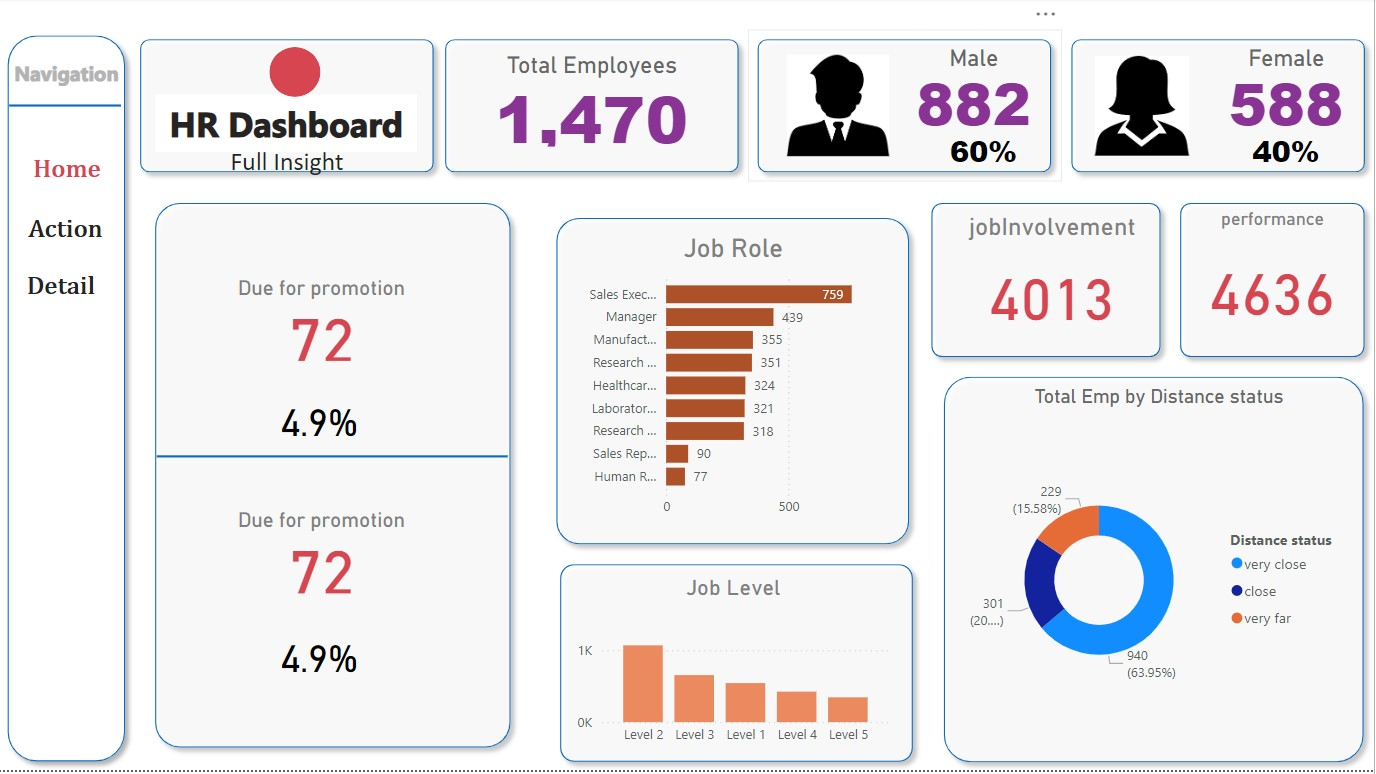

This screenshot's page, from the dashboard's own definition file:
{"tool":"powerbi","page":{"name":"Page 1","canvas":[1280,720],"ordinal":0},"visuals":[{"type":"shape","box":[0,26.9,127.2,693.3],"z":0},{"type":"shape","box":[123.5,30.6,291,141.8],"z":1000},{"type":"shape","box":[137,182.2,348.5,524.6],"z":2000},{"type":"shape","box":[509.9,196.9,346.1,321.6],"z":3000},{"type":"shape","box":[513.6,518.5,346.1,201.8],"z":4000},{"type":"shape","box":[859.7,182.2,231.1,161.4],"z":5000},{"type":"shape","box":[1090.8,182.2,189.5,161.4],"z":6000},{"type":"shape","box":[870.7,343.6,408.4,376.6],"z":7000},{"type":"shape","box":[407.2,30.6,291,141.8],"z":8000},{"type":"shape","box":[698.2,30.6,291,141.8],"z":9000},{"type":"shape","box":[989.3,30.6,291,141.8],"z":10000},{"type":"textbox","box":[159,132.1,218.9,40.4],"z":11000},{"type":"textbox","box":[146.7,90.5,243.3,53.8],"z":12000},{"type":"shape","box":[251.9,46.5,47.7,46.5],"z":13000},{"type":"card","title":"Total Employees","fields":{"Values":["New Measures.Total Emp"]},"box":[442.7,51.4,218.9,92.9],"z":14000},{"type":"card","title":"Male","fields":{"Values":["New Measures.Male"]},"box":[843.8,44,127.2,80.7],"z":15000},{"type":"card","title":"Male","fields":{"Values":["New Measures.% Male"]},"box":[871.9,124.7,89.3,39.1],"z":16000},{"type":"card","title":"Female","fields":{"Values":["New Measures.Female"]},"box":[1134.8,44,127.2,80.7],"z":17000},{"type":"card","title":"Male","fields":{"Values":["New Measures.% Female"]},"box":[1153.1,124.7,89.3,39.1],"z":18000},{"type":"image","box":[728.8,46.5,105.2,108.8],"z":19000},{"type":"image","box":[1007.6,50.1,112.5,102.7],"z":20000},{"type":"card","title":"due for promotion","fields":{"Values":["New Measures.% due for promotion"]},"box":[251.9,359.5,92.9,67.3],"z":21000},{"type":"card","title":"Due for promotion","fields":{"Values":["New Measures.Due for promotion"]},"box":[211.6,259.2,178.5,84.4],"z":22000},{"type":"card","title":"Due for promotion","fields":{"Values":["New Measures.Due for promotion"]},"box":[211.6,475.7,178.5,84.4],"z":23000},{"type":"card","title":"due for promotion","fields":{"Values":["New Measures.% due for promotion"]},"box":[251.9,579.6,92.9,67.3],"z":24000},{"type":"shape","box":[148,403.5,326.5,47.7],"z":25000},{"type":"clusteredBarChart","title":"Job Role","fields":{"Category":["HR Analytics Data.JobRole"],"Y":["Sum(HR Analytics Data.JobLevel)"]},"box":[533.2,220.1,300.8,272.7],"z":26000},{"type":"columnChart","title":"Job Level","fields":{"Category":["HR Analytics Data.Job Levels"],"Y":["Sum(HR Analytics Data.JobLevel)"]},"box":[533.2,536.8,300.8,167.5],"z":27000},{"type":"card","title":"jobInvolvement","fields":{"Values":["Sum(HR Analytics Data.JobInvolvement)"]},"box":[887.8,200.5,187.1,123.5],"z":28000},{"type":"card","title":"performance","fields":{"Values":["Sum(HR Analytics Data.PerformanceRating)"]},"box":[1110.3,196.9,150.4,127.2],"z":29000},{"type":"donutChart","fields":{"Category":["HR Analytics Data.Distance status"],"Y":["New Measures.Total Emp"]},"box":[897.6,360.7,364.4,343.6],"z":30000},{"type":"textbox","box":[0,53.8,127.2,44],"z":31000},{"type":"shape","box":[11,69.7,103.9,62.4],"z":32000},{"type":"textbox","box":[20.8,143.1,85.6,58.7],"z":33000},{"type":"textbox","box":[11,199.3,103.9,59.9],"z":34000},{"type":"textbox","box":[20.8,250.7,74.6,63.6],"z":35000}]}

Visuals, with their boxes in screenshot pixels (x1, y1, x2, y2), scaled from the page's 1280x720 canvas onto the 1376x774 screenshot:
shape: {"left": 0, "top": 29, "right": 137, "bottom": 773}
shape: {"left": 133, "top": 33, "right": 446, "bottom": 185}
shape: {"left": 147, "top": 196, "right": 522, "bottom": 760}
shape: {"left": 548, "top": 212, "right": 920, "bottom": 557}
shape: {"left": 552, "top": 557, "right": 924, "bottom": 773}
shape: {"left": 924, "top": 196, "right": 1173, "bottom": 369}
shape: {"left": 1173, "top": 196, "right": 1375, "bottom": 369}
shape: {"left": 936, "top": 369, "right": 1375, "bottom": 773}
shape: {"left": 438, "top": 33, "right": 751, "bottom": 185}
shape: {"left": 751, "top": 33, "right": 1063, "bottom": 185}
shape: {"left": 1063, "top": 33, "right": 1375, "bottom": 185}
textbox: {"left": 171, "top": 142, "right": 406, "bottom": 185}
textbox: {"left": 158, "top": 97, "right": 419, "bottom": 155}
shape: {"left": 271, "top": 50, "right": 322, "bottom": 100}
"Total Employees" card: {"left": 476, "top": 55, "right": 711, "bottom": 155}
"Male" card: {"left": 907, "top": 47, "right": 1044, "bottom": 134}
"Male" card: {"left": 937, "top": 134, "right": 1033, "bottom": 176}
"Female" card: {"left": 1220, "top": 47, "right": 1357, "bottom": 134}
"Male" card: {"left": 1240, "top": 134, "right": 1336, "bottom": 176}
image: {"left": 783, "top": 50, "right": 897, "bottom": 167}
image: {"left": 1083, "top": 54, "right": 1204, "bottom": 164}
"due for promotion" card: {"left": 271, "top": 386, "right": 371, "bottom": 459}
"Due for promotion" card: {"left": 227, "top": 279, "right": 419, "bottom": 369}
"Due for promotion" card: {"left": 227, "top": 511, "right": 419, "bottom": 602}
"due for promotion" card: {"left": 271, "top": 623, "right": 371, "bottom": 695}
shape: {"left": 159, "top": 434, "right": 510, "bottom": 485}
"Job Role" clusteredBarChart: {"left": 573, "top": 237, "right": 897, "bottom": 530}
"Job Level" columnChart: {"left": 573, "top": 577, "right": 897, "bottom": 757}
"jobInvolvement" card: {"left": 954, "top": 216, "right": 1156, "bottom": 348}
"performance" card: {"left": 1194, "top": 212, "right": 1355, "bottom": 348}
donutChart - HR Analytics Data.Distance status x New Measures.Total Emp: {"left": 965, "top": 388, "right": 1357, "bottom": 757}
textbox: {"left": 0, "top": 58, "right": 137, "bottom": 105}
shape: {"left": 12, "top": 75, "right": 124, "bottom": 142}
textbox: {"left": 22, "top": 154, "right": 114, "bottom": 217}
textbox: {"left": 12, "top": 214, "right": 124, "bottom": 279}
textbox: {"left": 22, "top": 270, "right": 103, "bottom": 338}
